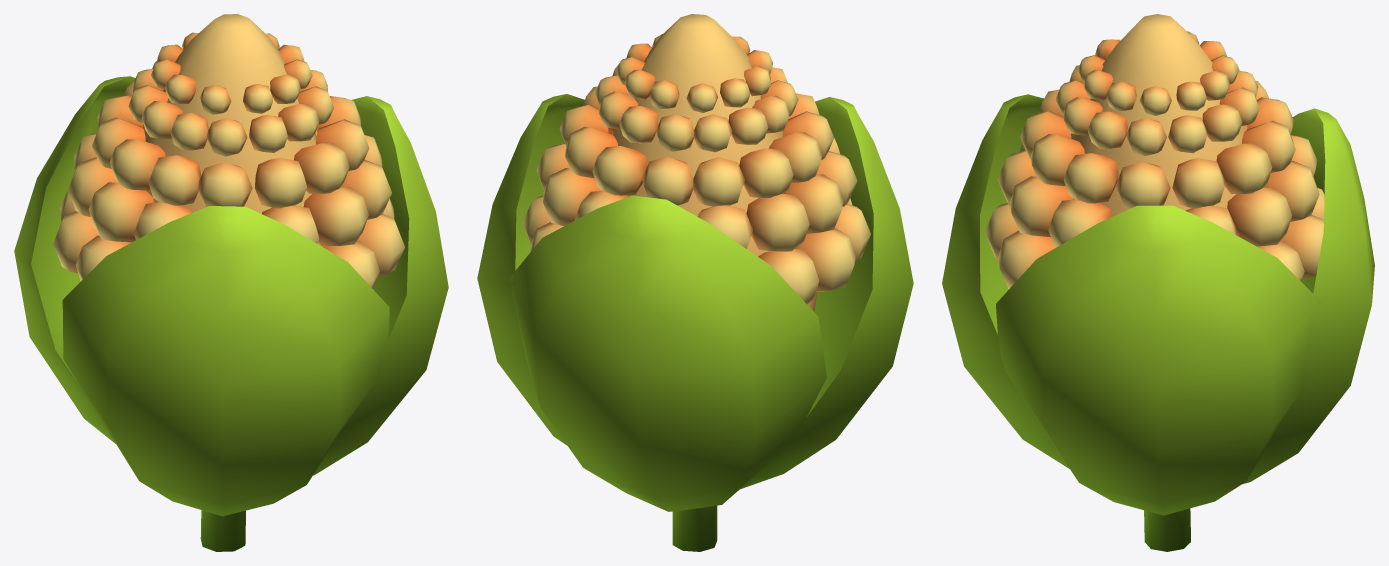
File: lpb_food_corn.fbx
The picture shows the model from 3 angles, left to right: view 1: azimuth 30°, elevation 25°; view 2: azimuth 150°, elevation 25°; view 3: azimuth 270°, elevation 25°; orthographic projection.
Visible parts, largest first — view 1: corn; view 2: corn; view 3: corn.
Boxes of the visible parts, x1,y1,x2,y2 form: corn: (14,14,448,551); corn: (477,14,913,551); corn: (942,14,1374,551).
Bounding box in the file's own units: 42.84 × 59.34 × 44.55.
